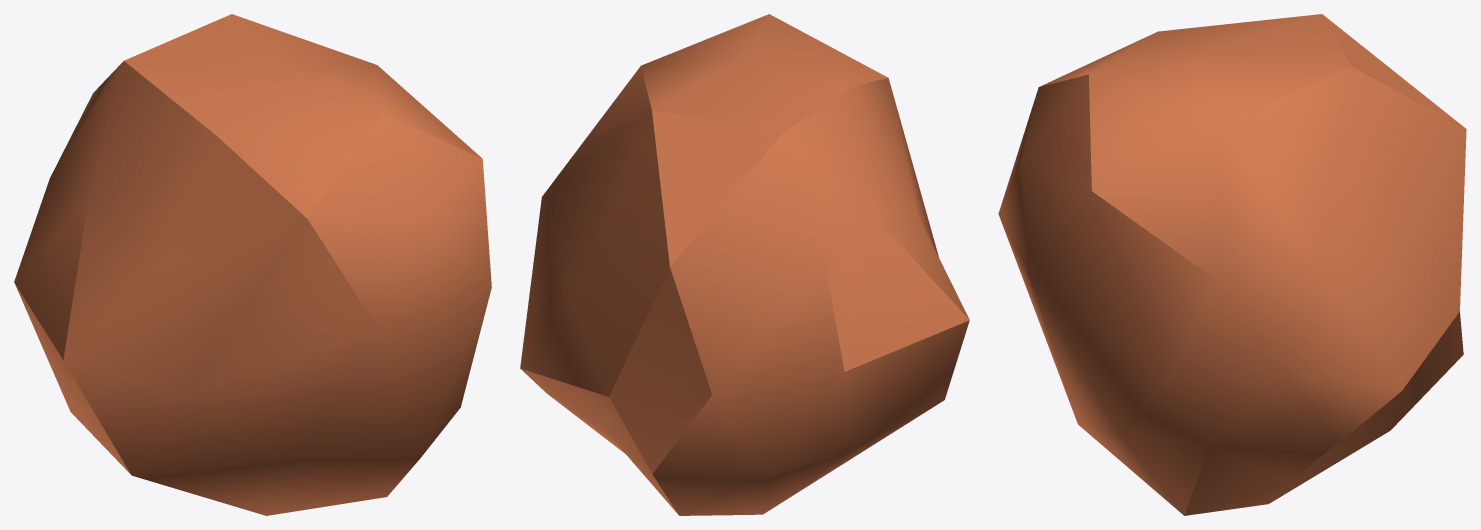
Rendered from Piedra5.fbx.
3 renders of one model, left to right at view 1: azimuth 30°, elevation 25°; view 2: azimuth 150°, elevation 25°; view 3: azimuth 270°, elevation 25°, orthographic. The views are drawn at different scales.
Visible parts, largest first — view 1: Piedra 5; view 2: Piedra 5; view 3: Piedra 5.
Part boxes in pixels (box(x1,y1,x2,y2)): Piedra 5: box(14, 14, 491, 515); Piedra 5: box(520, 14, 969, 515); Piedra 5: box(998, 14, 1466, 515).
Size of the model in its own units: 763 by 814 by 781.
